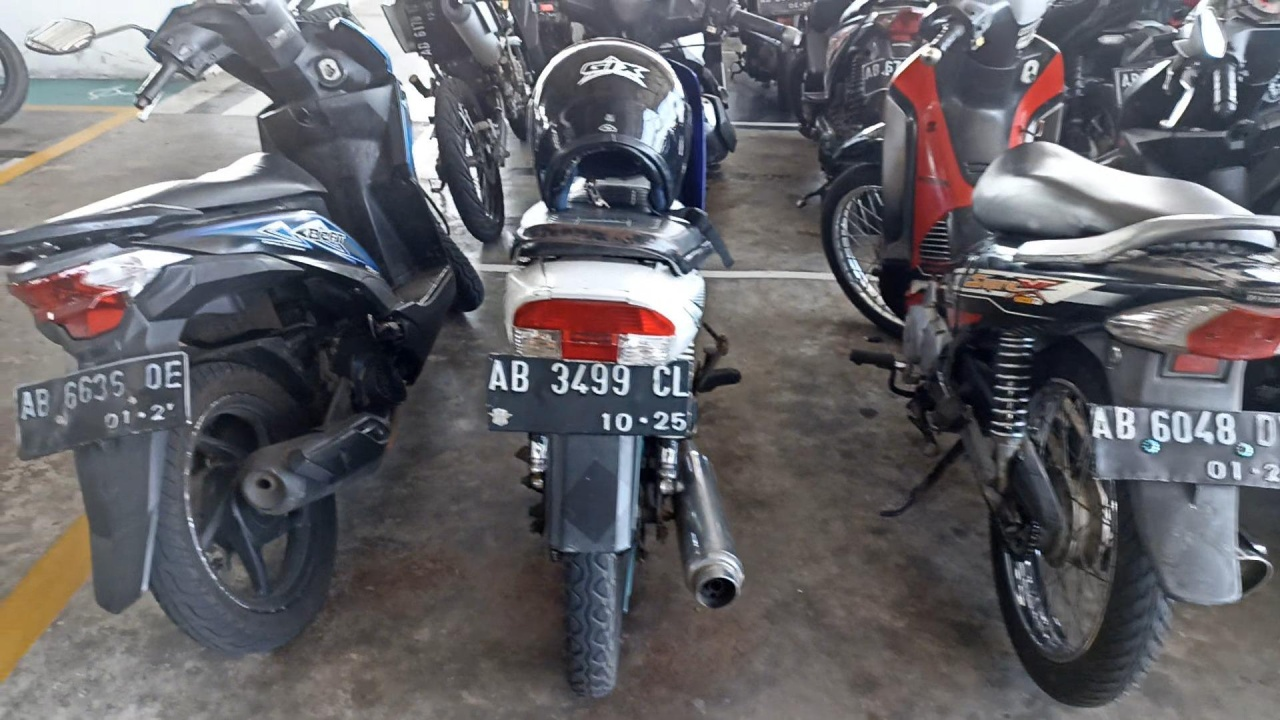plate: (14, 352, 189, 463), (489, 350, 692, 435)
